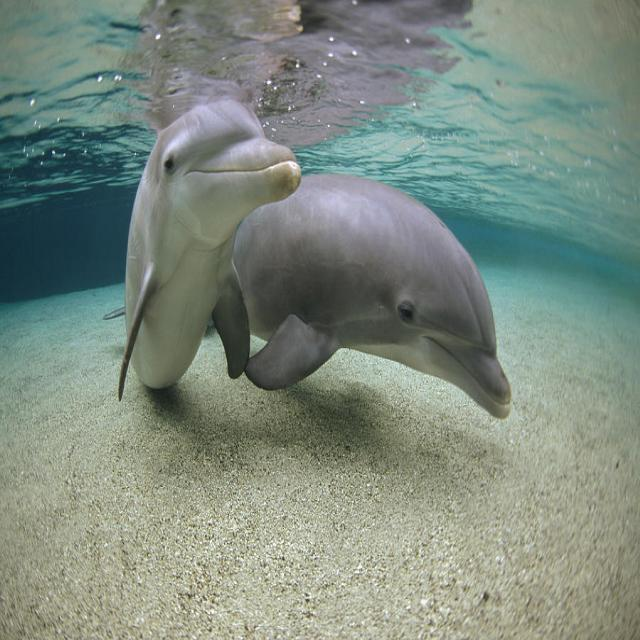dolphin: (258, 62, 579, 570), (108, 75, 304, 542)
